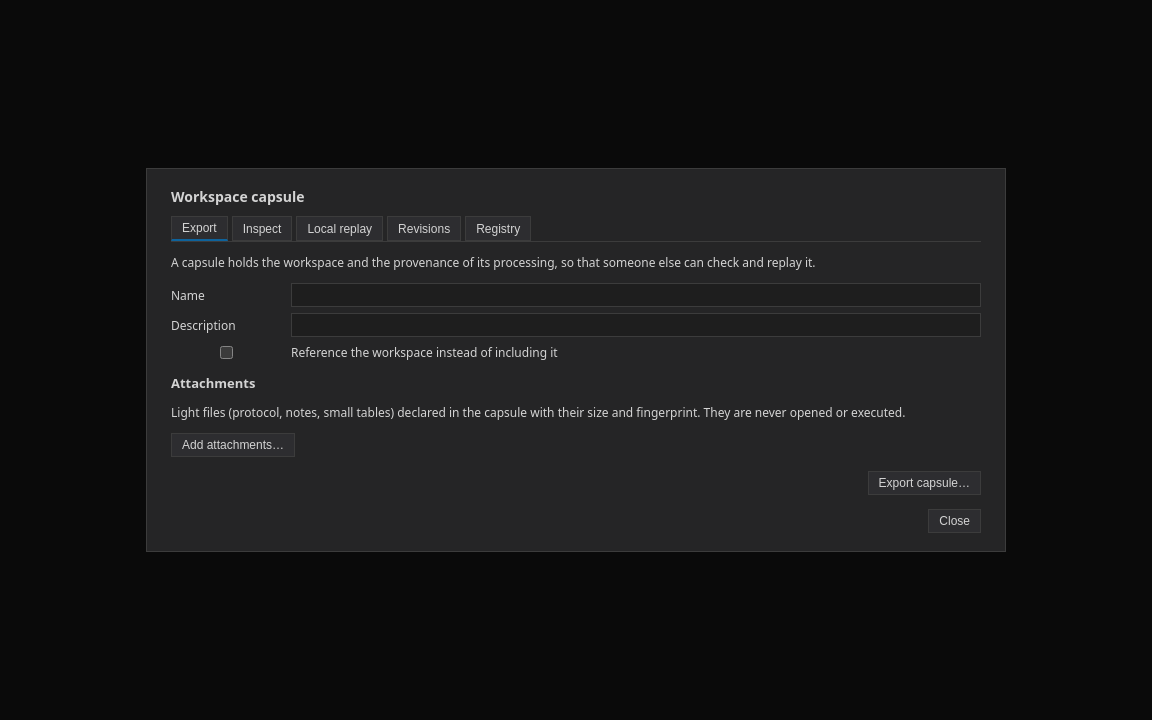
Test: CapsuleDialog export completion › does not record an export whose inspection reports invalid content
Step 1. Type "invalid" into the field with test id "capsule-name" → (636, 295), box [291, 283, 981, 307]
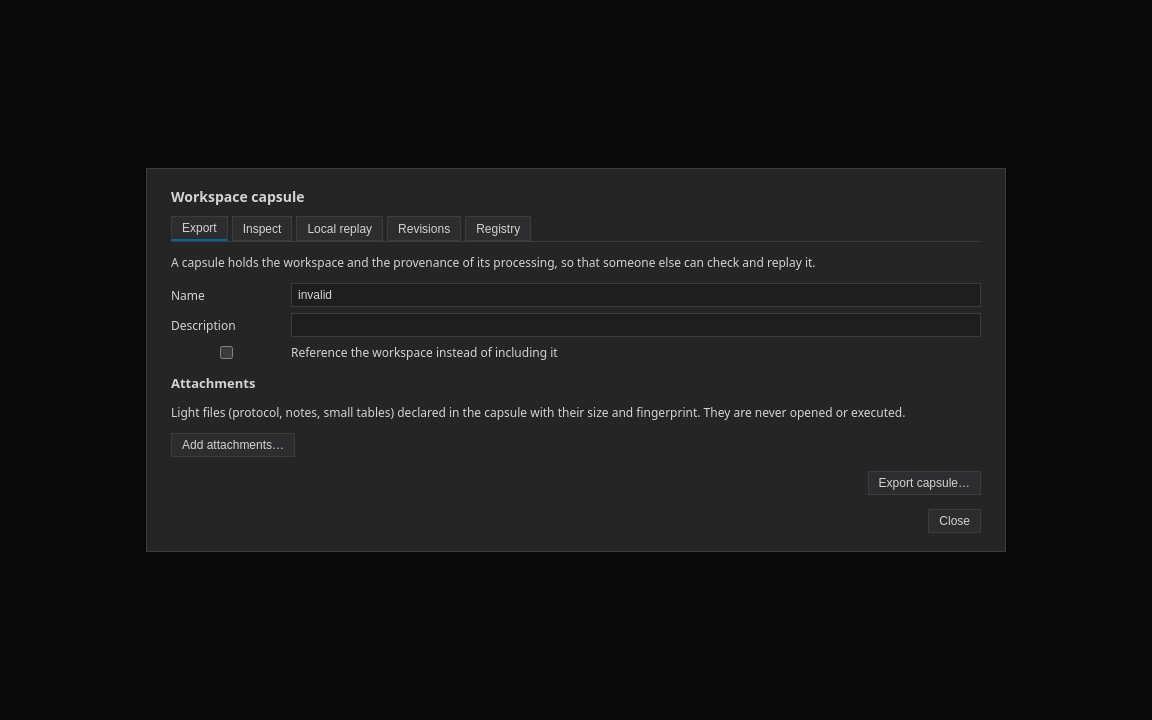
Step 2. Click the button with test id "capsule-export-button" → click(924, 483), box [868, 471, 981, 495]
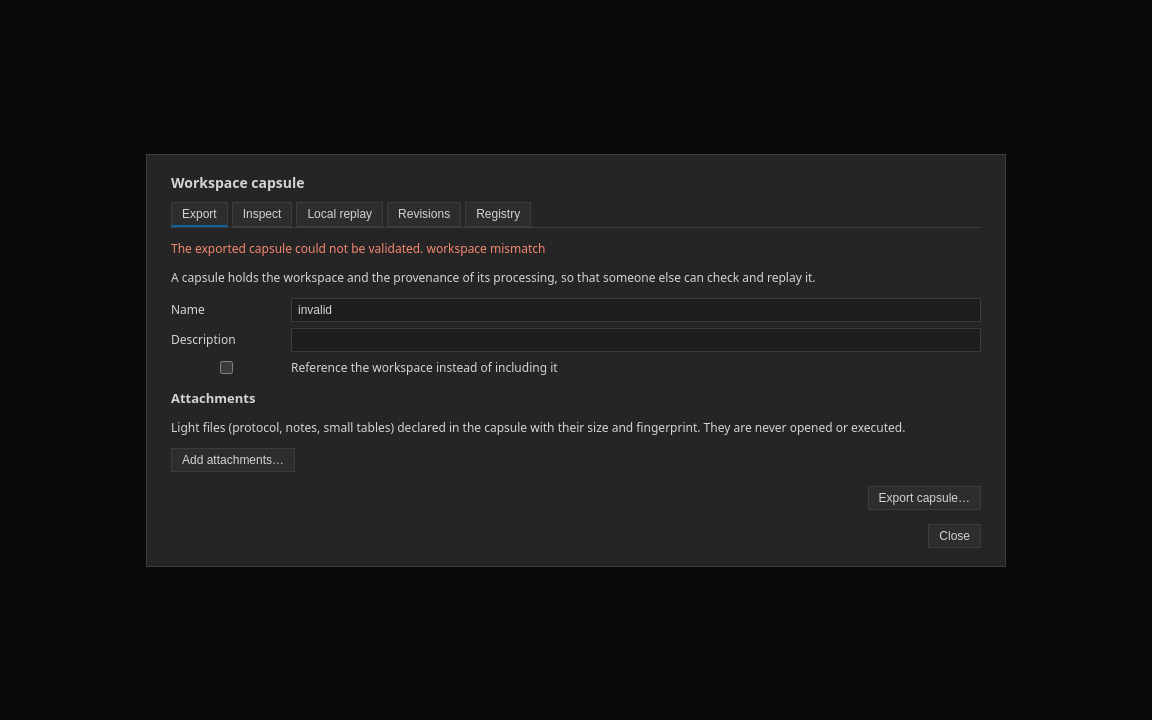
Expected: the button with test id "capsule-export-button" is enabled, [868, 486, 981, 510]
Now the message with test id "capsule-error" shows "workspace mismatch", box [171, 240, 546, 256]
